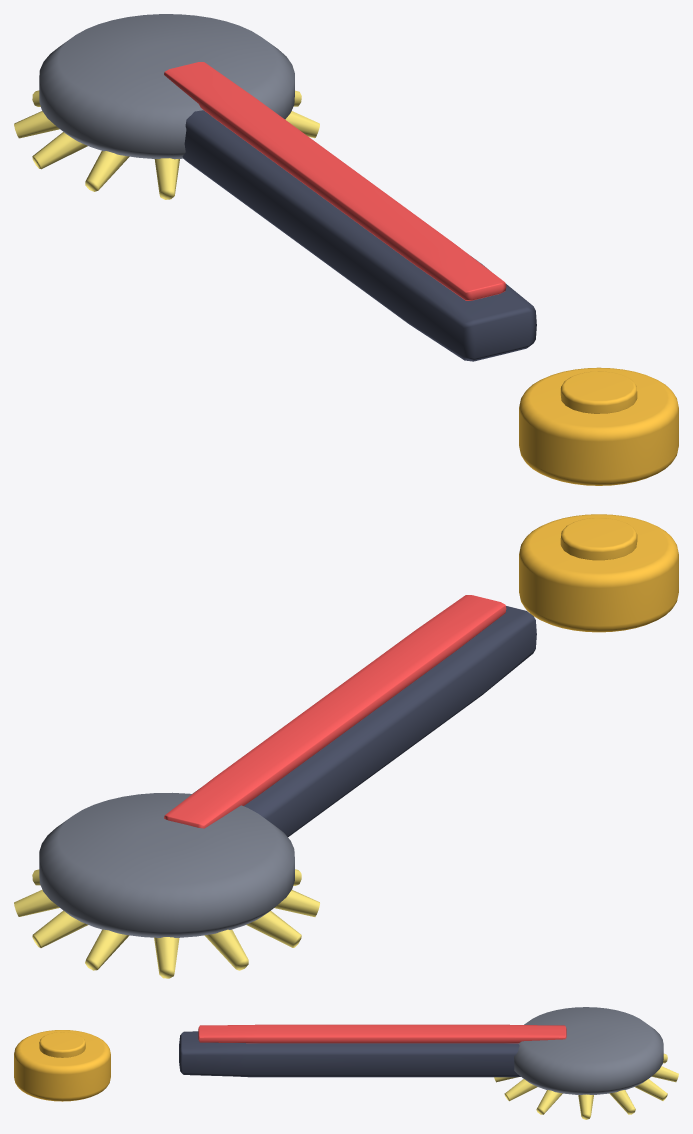
File: BigBadVacuumBrush.obj
The picture shows the model from 3 angles, top to bottom: view 1: azimuth 30°, elevation 25°; view 2: azimuth 150°, elevation 25°; view 3: azimuth 270°, elevation 25°; orthographic projection. The views are drawn at different scales.
Parts seen in each view (by area): view 1: Head, Boom, Hub, BoomTop, Bristles; view 2: Head, Boom, Hub, BoomTop, Bristles; view 3: Boom, Head, BoomTop, Hub, Bristles.
Part boxes in pixels (x1,y1,x2,y2): Head: [39, 14, 294, 159]; Boom: [182, 110, 536, 361]; Hub: [519, 367, 678, 485]; BoomTop: [164, 62, 506, 300]; Bristles: [14, 90, 319, 199]; Head: [39, 792, 294, 937]; Boom: [192, 606, 536, 836]; Hub: [519, 514, 678, 632]; BoomTop: [164, 595, 506, 828]; Bristles: [14, 869, 319, 978]; Boom: [179, 1031, 520, 1077]; Head: [514, 1007, 663, 1094]; BoomTop: [198, 1024, 566, 1043]; Hub: [14, 1030, 110, 1101]; Bristles: [494, 1053, 678, 1119].
Size of the model in its own units: 9.57 by 3.05 by 34.29.
